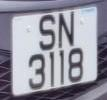1: (46, 50, 60, 91), (56, 49, 67, 89)
3: (26, 53, 47, 92)
8: (67, 46, 86, 85)
N: (57, 9, 77, 51)
S: (36, 12, 58, 55)
